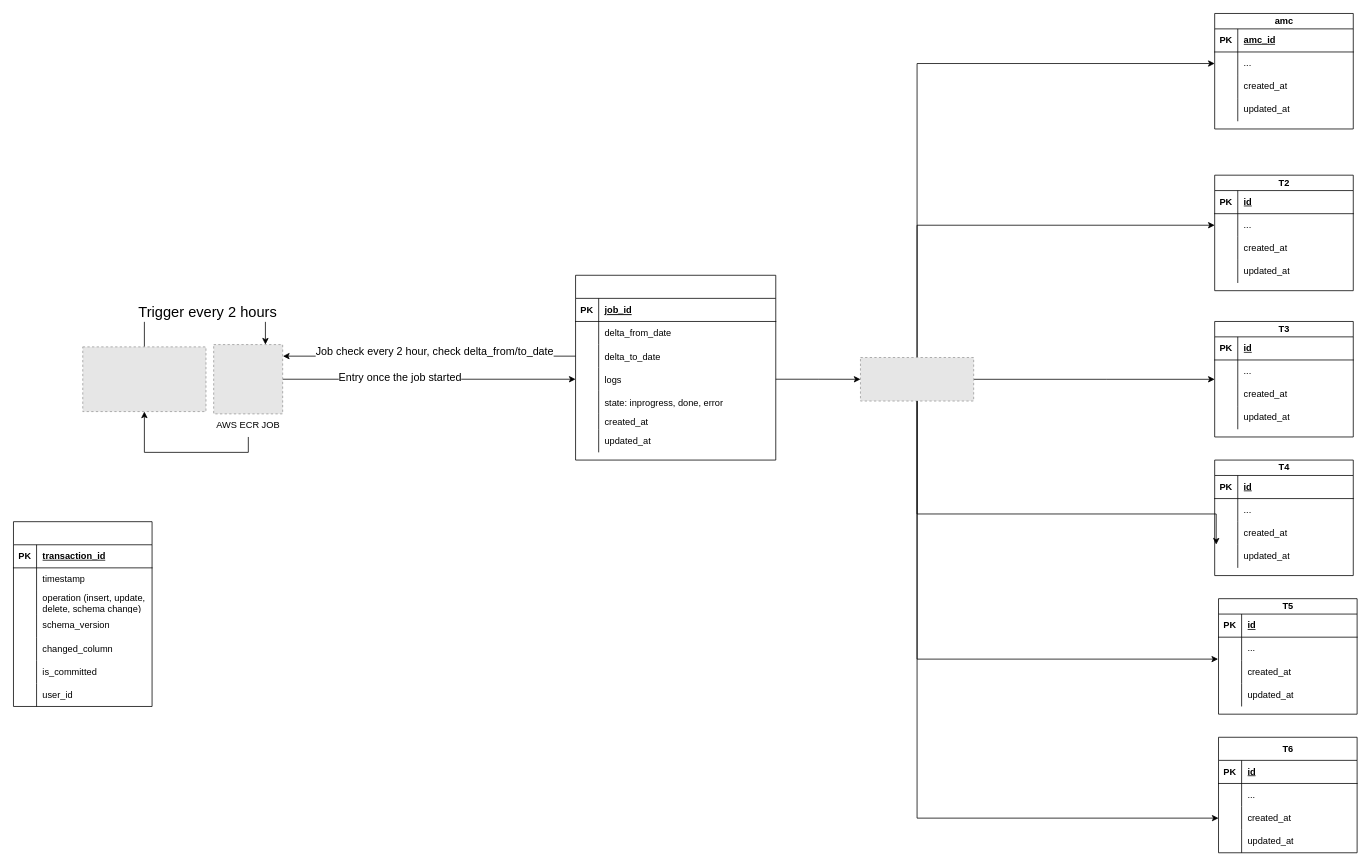
The diagram is 1371 pixels wide and 866 high, and some of its shapes have lost their labels. Grey dashed boxes stand in for pictures. Each missing label, with the box of its shape:
delta log: (13, 521, 152, 706)
vrojob: (575, 275, 776, 460)
